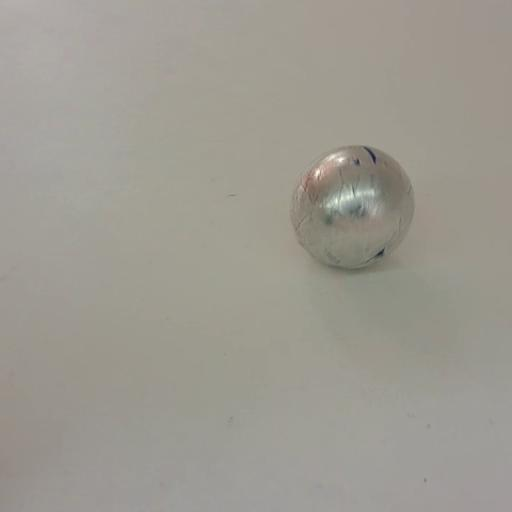alive: (286, 142, 416, 268)
